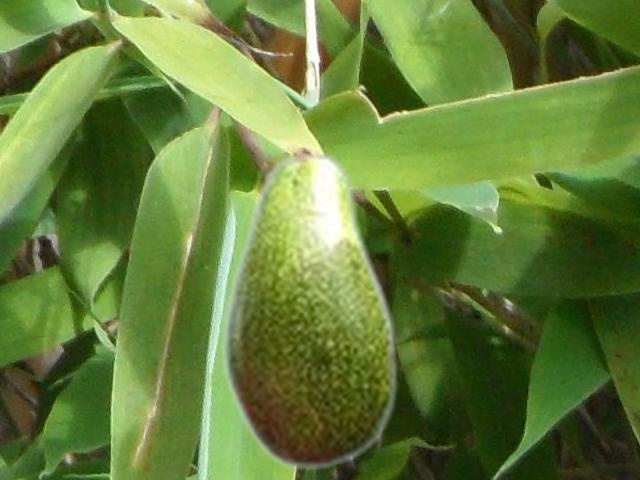avocado: (222, 148, 398, 472)
